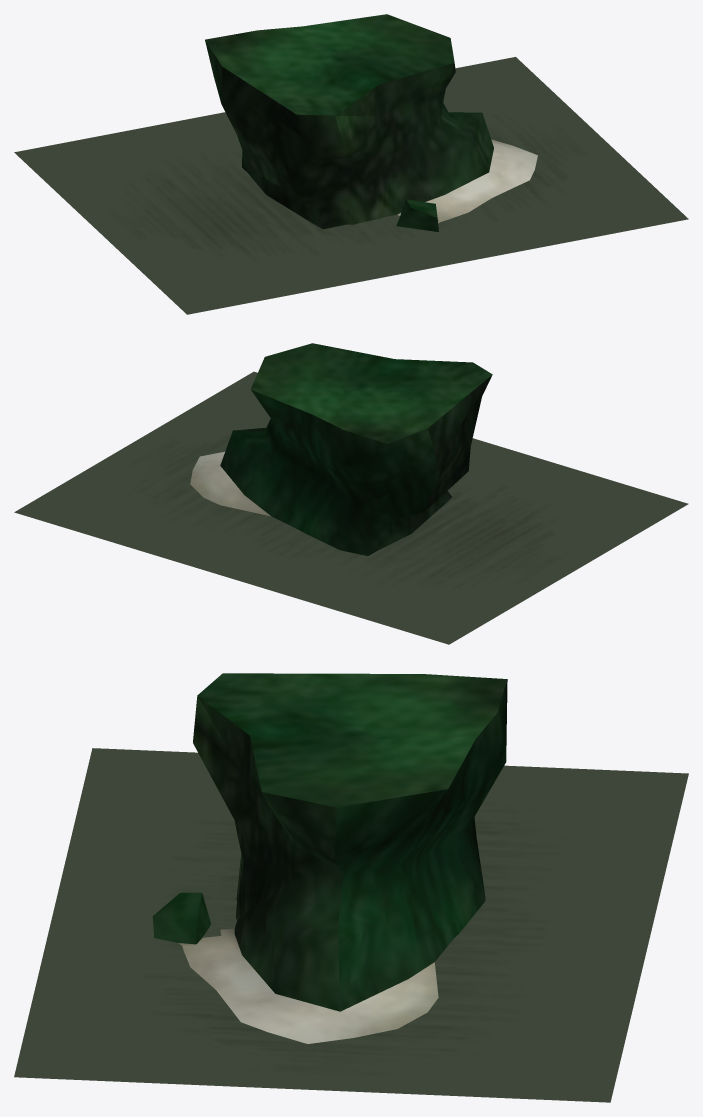
Rendered from pir_m_are_isl_devilsAnvil_worldmap.fbx.
3 views of the same model, one above another, from view 1: azimuth 30°, elevation 25°; view 2: azimuth 150°, elevation 25°; view 3: azimuth 270°, elevation 25° (orthographic). The views are drawn at different scales.
Visible parts, largest first — view 1: sketchmark, hill, beach; view 2: sketchmark, hill, beach; view 3: sketchmark, hill, beach.
Part boxes in pixels (x1=…): sketchmark: x1=14, y1=57, x2=688, y2=314; hill: x1=205, y1=14, x2=493, y2=231; beach: x1=397, y1=139, x2=537, y2=223; sketchmark: x1=14, y1=371, x2=688, y2=644; hill: x1=220, y1=343, x2=492, y2=555; beach: x1=190, y1=451, x2=270, y2=516; sketchmark: x1=14, y1=748, x2=688, y2=1102; hill: x1=152, y1=673, x2=507, y2=1011; beach: x1=179, y1=928, x2=438, y2=1043.
Size of the model in its own units: 24.79 by 6.28 by 19.94.
2 materials, 2 textured.
